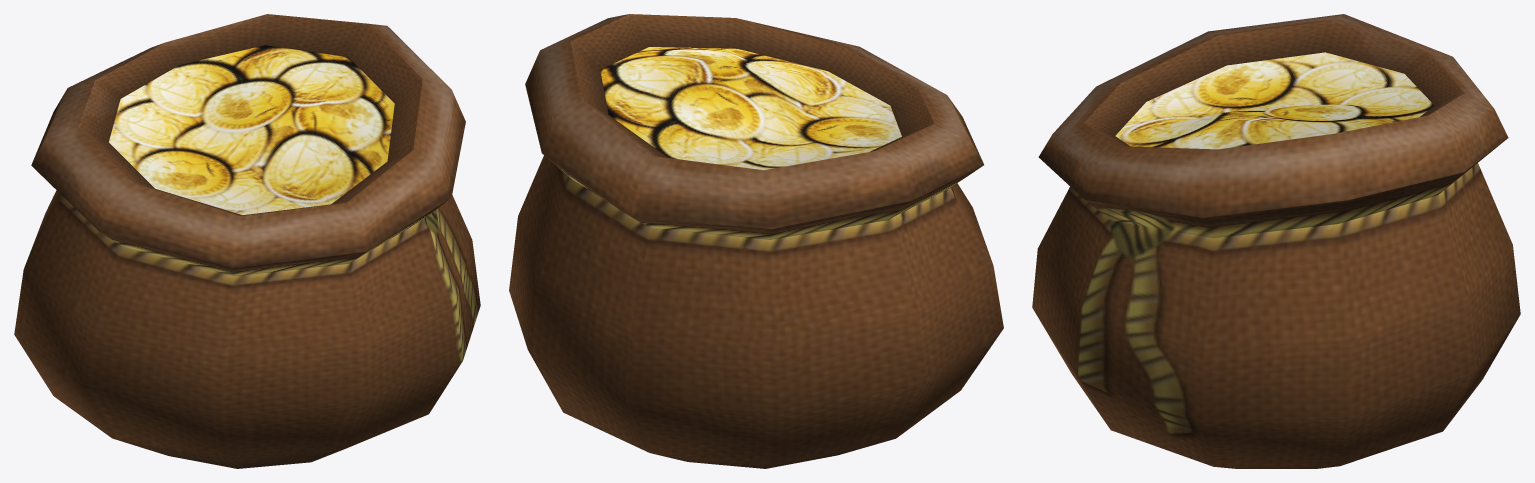
File: GoldSack.FBX
3 renders of one model, left to right at view 1: azimuth 30°, elevation 25°; view 2: azimuth 150°, elevation 25°; view 3: azimuth 270°, elevation 25°, orthographic. The views are drawn at different scales.
Visible parts, largest first — view 1: Sphere003; view 2: Sphere003; view 3: Sphere003.
Boxes of the visible parts, x1,y1,x2,y2 form: Sphere003: [14, 14, 480, 468]; Sphere003: [509, 14, 1003, 468]; Sphere003: [1032, 14, 1520, 468].
Bounding box in the file's own units: 88.5 × 72.02 × 89.1.
